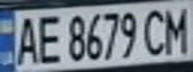6: (84, 9, 106, 61)
7: (103, 8, 121, 60)
8: (63, 10, 87, 62)
9: (118, 7, 142, 60)
A: (9, 12, 39, 66)
C: (139, 6, 169, 56)
E: (33, 11, 63, 65)
M: (160, 3, 193, 54)
